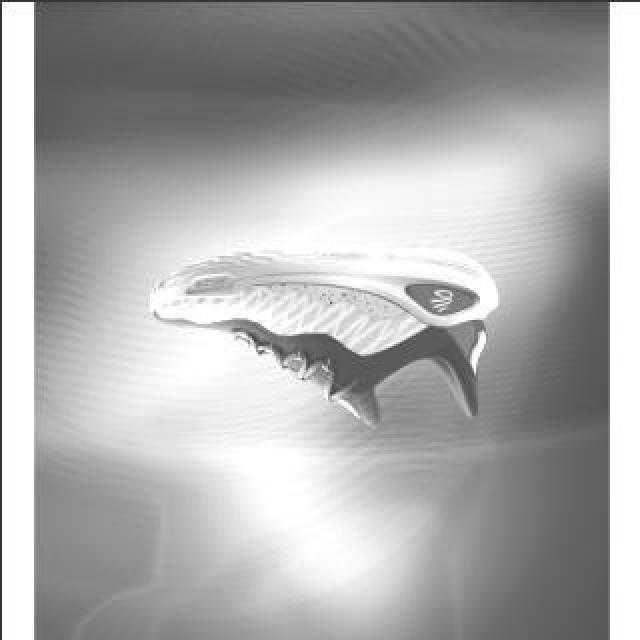shoe: (152, 247, 496, 427)
